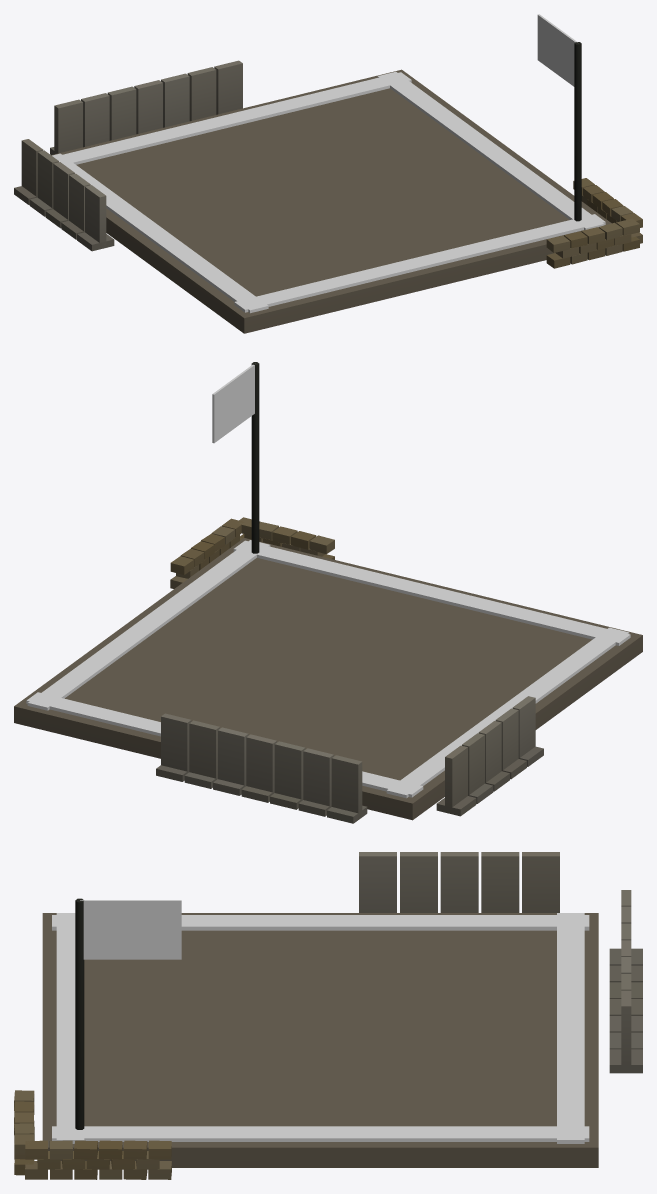
The model's file is m_barracks_36fe08bc.glb.
The picture shows the model from 3 angles, top to bottom: view 1: azimuth 30°, elevation 25°; view 2: azimuth 150°, elevation 25°; view 3: azimuth 270°, elevation 25°; orthographic projection. The views are drawn at different scales.
Parts seen in each view (by area): view 1: mesh; view 2: mesh; view 3: mesh.
Part boxes in pixels (x1,y1,x2,y2): mesh: [14, 14, 642, 333]; mesh: [14, 362, 642, 823]; mesh: [14, 852, 642, 1179].
Size of the model in its own units: 67.92 by 30 by 67.91.
